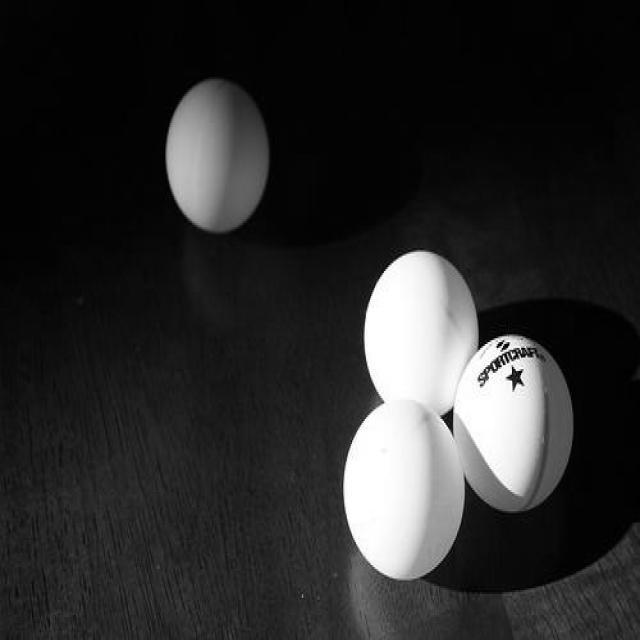ping-pong-ball: (451, 333, 578, 518), (341, 399, 468, 583), (362, 250, 479, 426), (164, 76, 268, 234)
